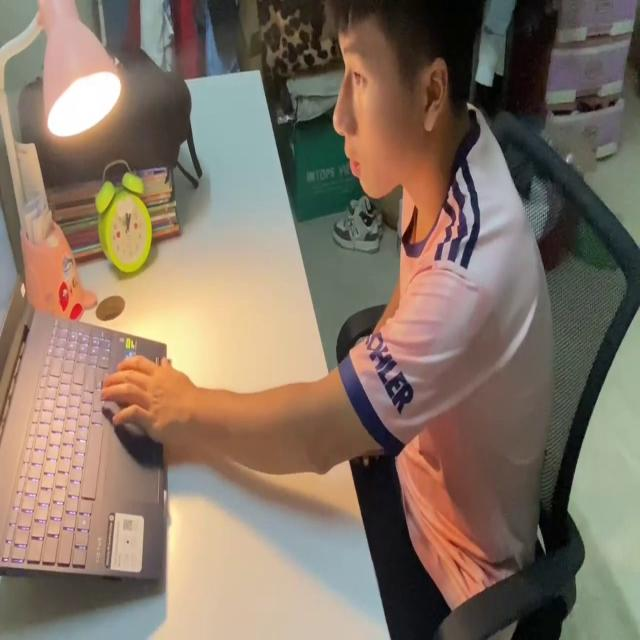laptop: (0, 190, 171, 596)
student: (98, 0, 558, 640)
